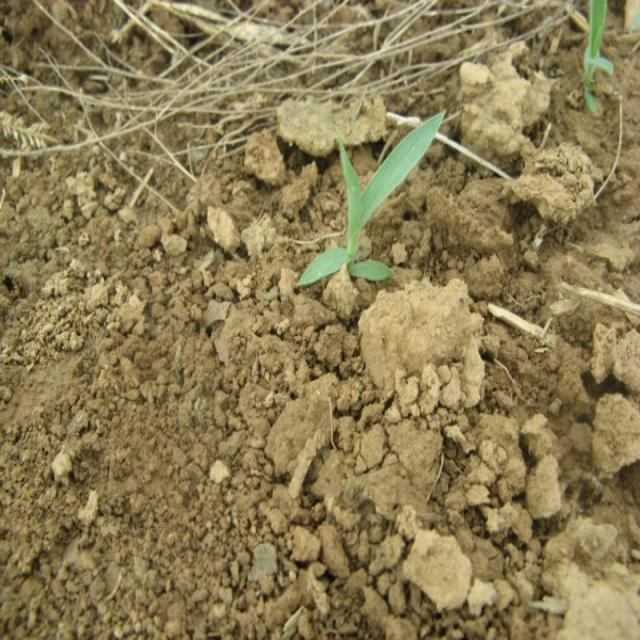bg: (298, 109, 444, 292)
